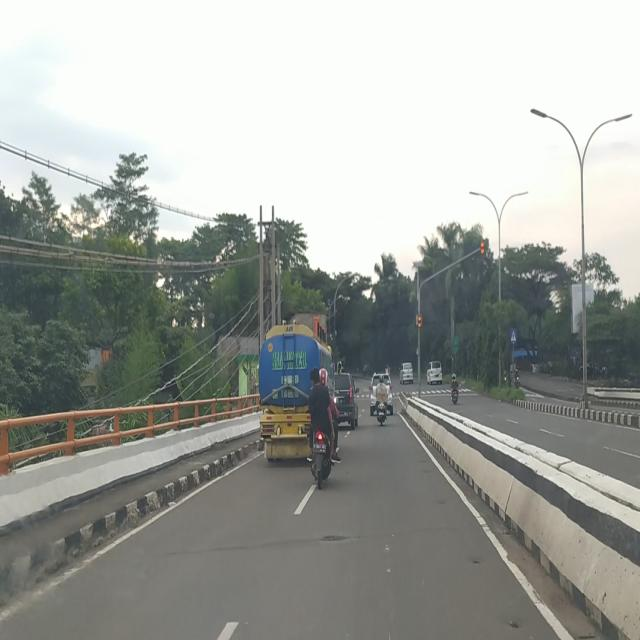Sewer Cover: (206, 532, 354, 551)
